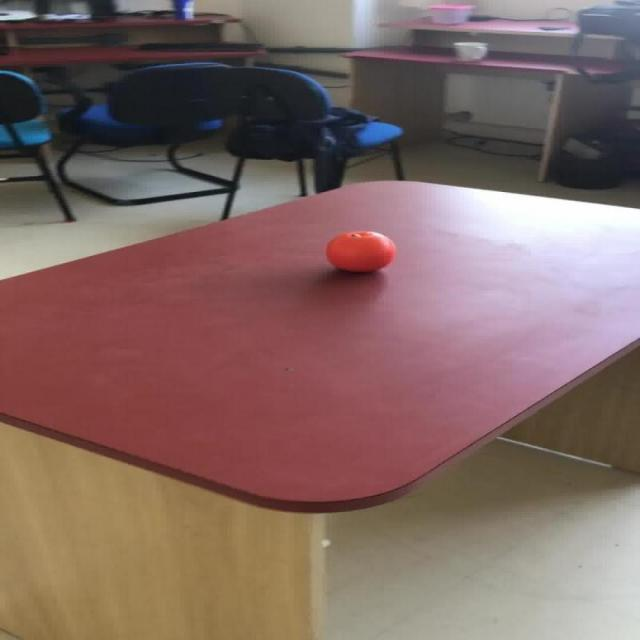Orange: (324, 230, 395, 273)
